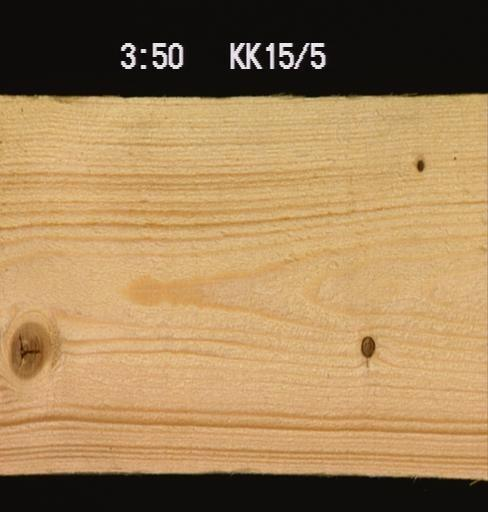dry_knot: (358, 333, 375, 359)
small_knot: (413, 156, 426, 174)
sound_knot: (7, 319, 49, 379)
